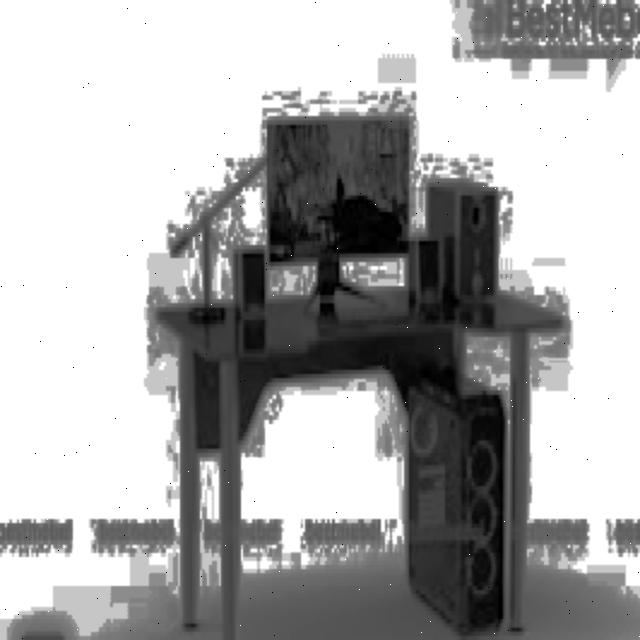table: (154, 282, 563, 640)
